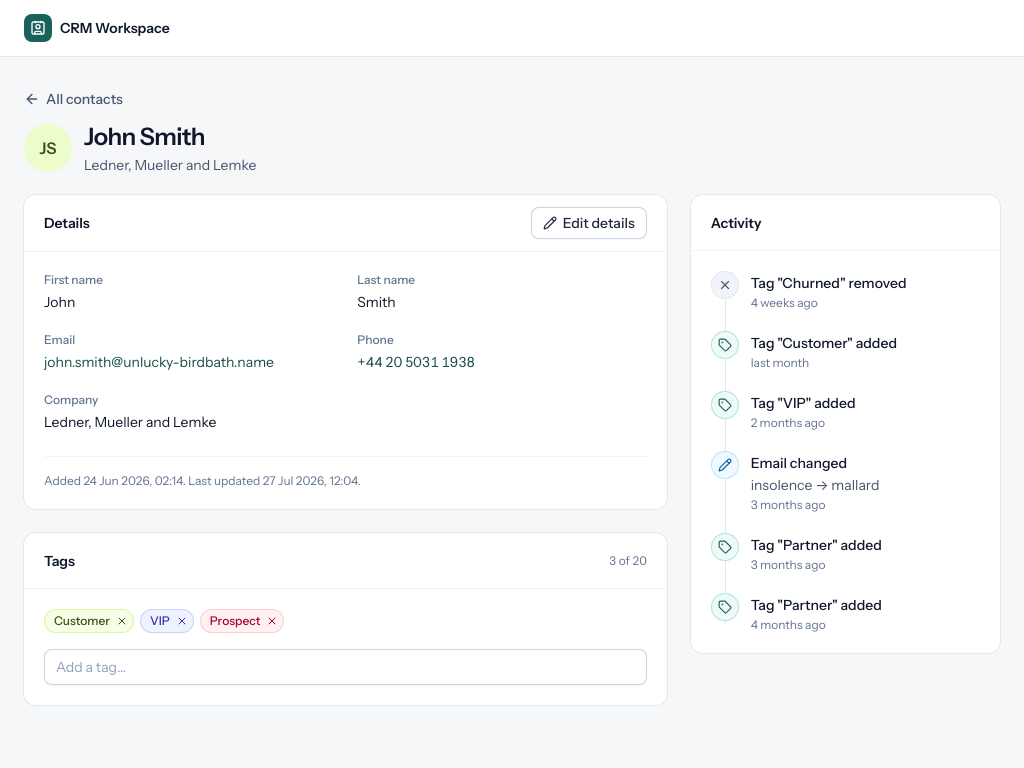
Scenario: TagEditor › keeps the tag and reports the error when removal fails
This screenshot has width=1024, height=768.
Click the button named "Remove tag VIP" at (182, 621), box [174,613,190,629]
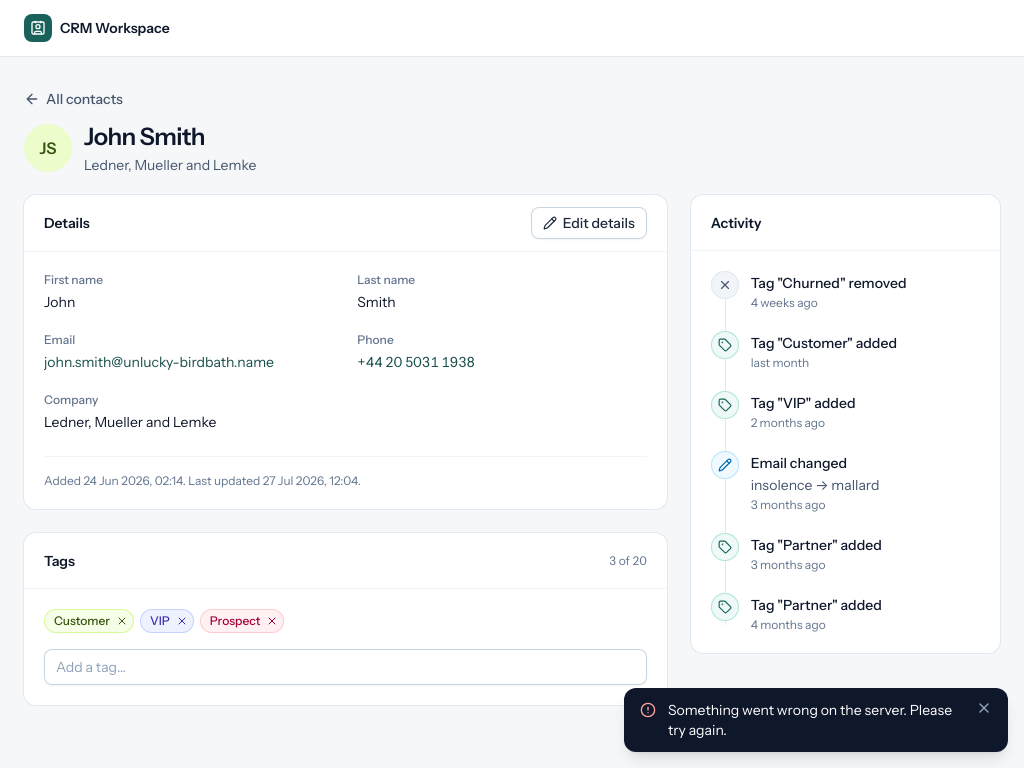
Check: the text "Something went wrong on the server. Please try again." is shown, box [668,700,964,740]
